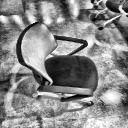chair_success: (14, 21, 102, 107)
